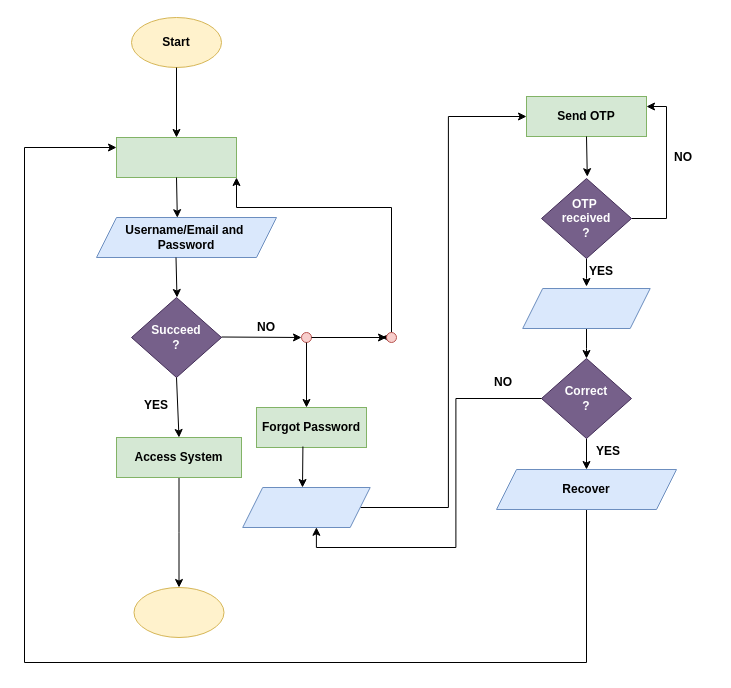
Image size: 731x688. Some labels were removed from this diagram. Here are the shapes that lost their labels. From the top down, the centre of each, then its label:
At [176,157]: "Login".
At [586,308]: "Enter OTP".
At [306,507]: "Email".
At [178,612]: "End".
